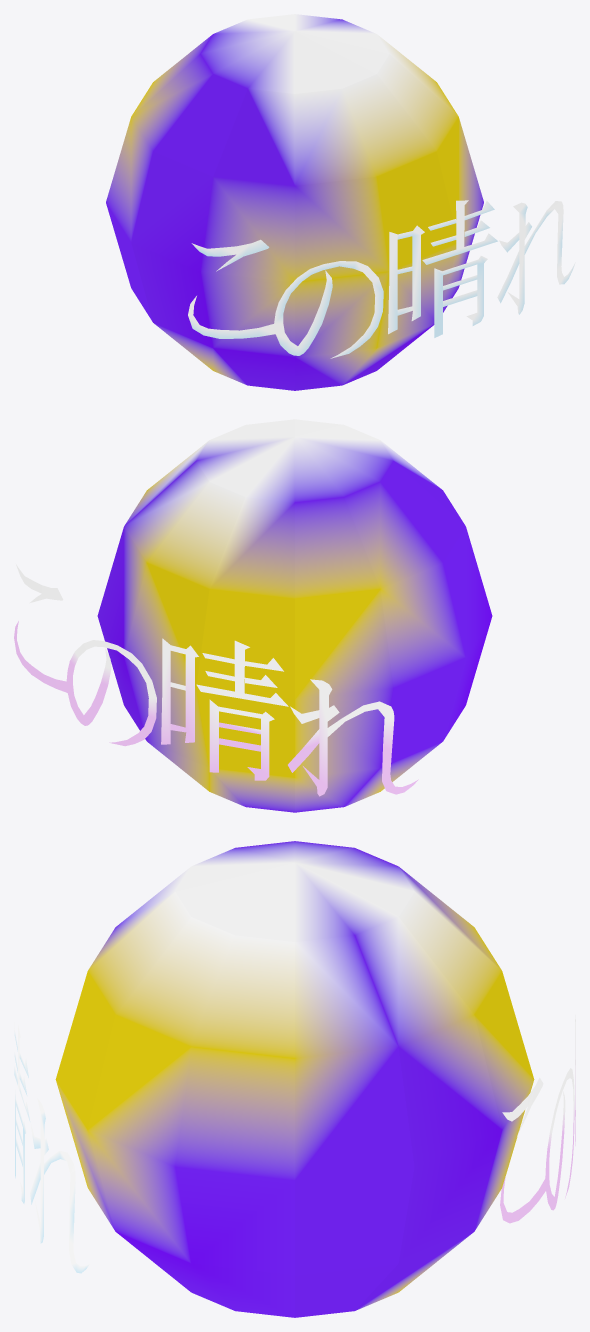
Rendered from ps2_save-icons_konoharetasorabluesky.glb.
3 renders of one model, top to bottom at view 1: azimuth 30°, elevation 25°; view 2: azimuth 150°, elevation 25°; view 3: azimuth 270°, elevation 25°, orthographic. The views are drawn at different scales.
Parts seen in each view (by area): view 1: static.ico; view 2: static.ico; view 3: static.ico.
Part boxes in pixels (left/top/right/bottom): static.ico: left=106, top=14, right=575, bottom=390; static.ico: left=14, top=419, right=492, bottom=812; static.ico: left=14, top=841, right=575, bottom=1317.
Size of the model in its own units: 4.65 by 3.81 by 4.47.
Materials: 1 (1 with a texture image).
